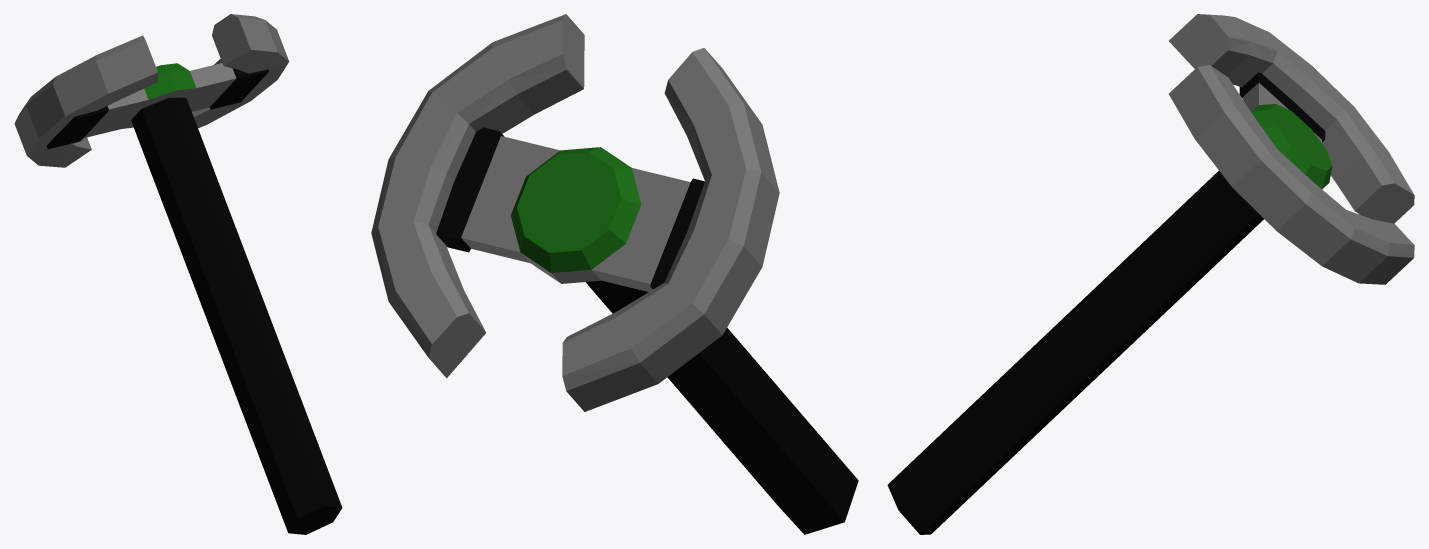
The model's file is SteeringWheel5.obj.
3 views of the same model, side by side, from view 1: azimuth 30°, elevation 25°; view 2: azimuth 150°, elevation 25°; view 3: azimuth 270°, elevation 25° (orthographic). The views are drawn at different scales.
Parts seen in each view (by area): view 1: SteeringWheel5_Cylinder; view 2: SteeringWheel5_Cylinder; view 3: SteeringWheel5_Cylinder.
Part boxes in pixels (x1,y1,x2,y2): SteeringWheel5_Cylinder: [14, 14, 342, 534]; SteeringWheel5_Cylinder: [371, 14, 858, 534]; SteeringWheel5_Cylinder: [887, 14, 1414, 534].
Bounding box in the file's own units: 2 × 3.38 × 3.27.
